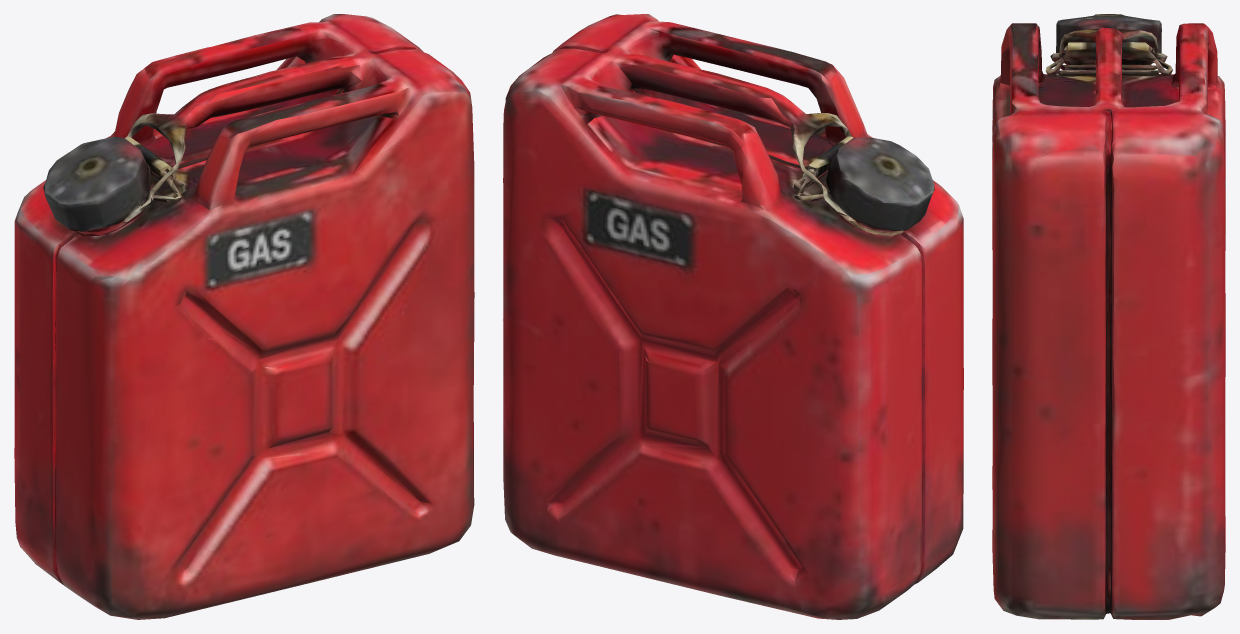
File: street_fuel_can.glb
The picture shows the model from 3 angles, left to right: view 1: azimuth 30°, elevation 25°; view 2: azimuth 150°, elevation 25°; view 3: azimuth 270°, elevation 25°; orthographic projection. The views are drawn at different scales.
Visible parts, largest first — view 1: turn; view 2: turn; view 3: turn.
Part boxes in pixels (box(x1,y1,x2,y2)): turn: box(14, 14, 474, 619); turn: box(503, 14, 963, 619); turn: box(992, 14, 1225, 619).
Size of the model in its own units: 0.3803 by 0.45 by 0.1928.
1 material, 1 textured.
